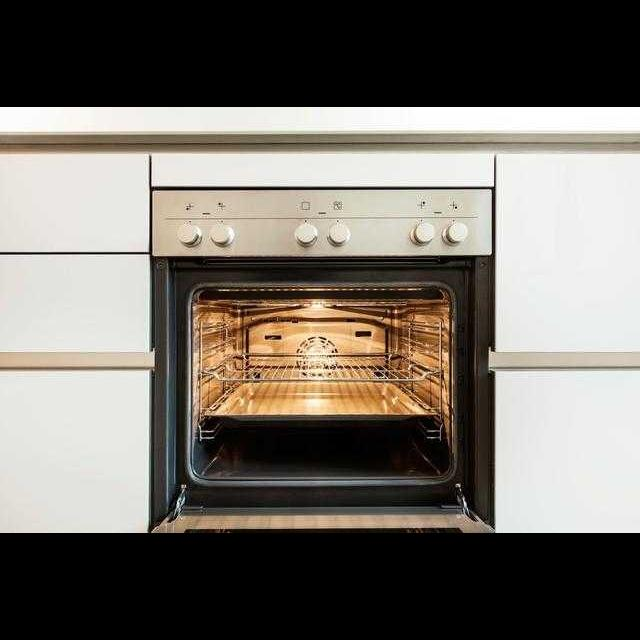Oven: (150, 184, 490, 534)
